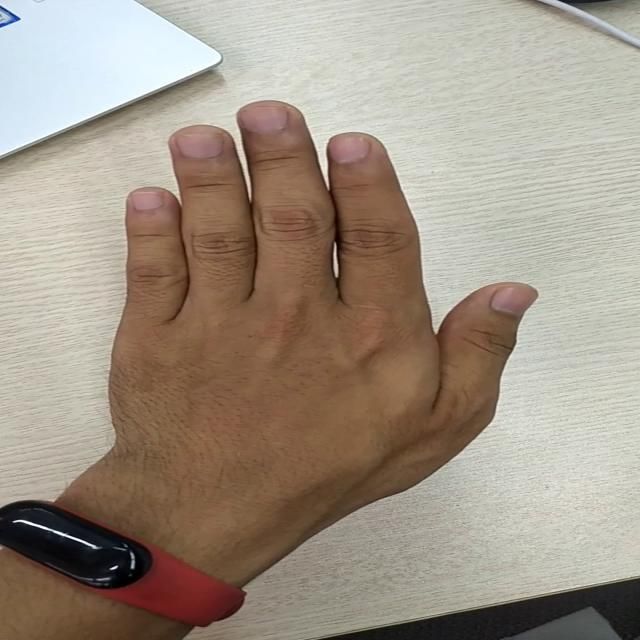hand: (121, 102, 525, 507)
